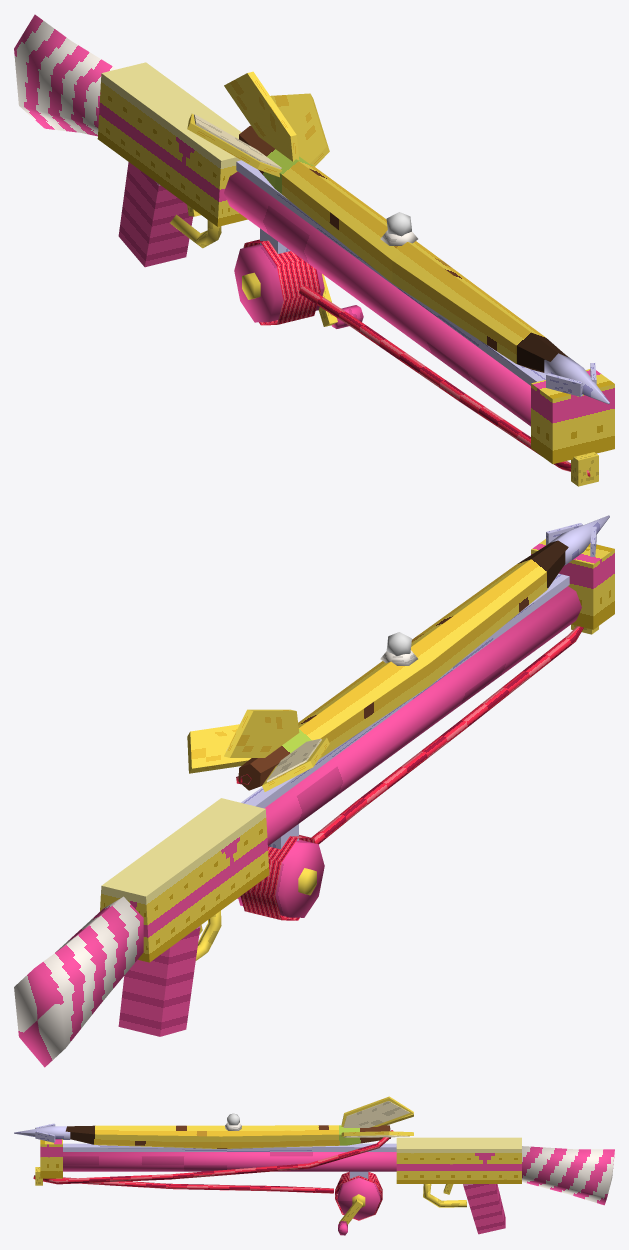
File: Banana Split Harpoon.fbx
3 renders of one model, top to bottom at view 1: azimuth 30°, elevation 25°; view 2: azimuth 150°, elevation 25°; view 3: azimuth 270°, elevation 25°, orthographic. The views are drawn at different scales.
Visible parts, largest first — view 1: Banana Split Harpoon banana, Banana Split Harpoon receiver, Banana Split Harpoon barrel, Banana Split Harpoon stock, Banana Split Harpoon muzzle head, Banana Split Harpoon grip, Banana Split Harpoon licorice line, Banana Split Harpoon peel 1.001, Banana Split Harpoon spool, Banana Split Harpoon spool line, Banana Split Harpoon shaft rail, Banana Split Harpoon peel 2.001 (+5 smaller); view 2: Banana Split Harpoon receiver, Banana Split Harpoon banana, Banana Split Harpoon barrel, Banana Split Harpoon stock, Banana Split Harpoon grip, Banana Split Harpoon licorice line, Banana Split Harpoon muzzle head, Banana Split Harpoon peel 1.001, Banana Split Harpoon shaft rail, Banana Split Harpoon spool, Banana Split Harpoon peel 2.001, Banana Split Harpoon spool line (+3 smaller); view 3: Banana Split Harpoon banana, Banana Split Harpoon barrel, Banana Split Harpoon receiver, Banana Split Harpoon stock, Banana Split Harpoon licorice line, Banana Split Harpoon shaft rail, Banana Split Harpoon grip, Banana Split Harpoon spool, Banana Split Harpoon peel 1 inner, Banana Split Harpoon muzzle head, Banana Split Harpoon spool line, Banana Split Harpoon peel 1.001 (+4 smaller).
Part boxes in pixels (x1,y1,x2,y2): Banana Split Harpoon banana: [239, 125, 567, 372]; Banana Split Harpoon receiver: [97, 62, 247, 226]; Banana Split Harpoon barrel: [224, 171, 530, 426]; Banana Split Harpoon stock: [14, 14, 117, 136]; Banana Split Harpoon muzzle head: [531, 369, 614, 463]; Banana Split Harpoon grip: [118, 162, 192, 267]; Banana Split Harpoon licorice line: [299, 286, 590, 476]; Banana Split Harpoon peel 1.001: [224, 71, 299, 161]; Banana Split Harpoon spool: [234, 244, 324, 322]; Banana Split Harpoon spool line: [243, 239, 320, 325]; Banana Split Harpoon shaft rail: [236, 160, 545, 385]; Banana Split Harpoon peel 2.001: [270, 93, 329, 166]; Banana Split Harpoon receiver: [100, 798, 269, 962]; Banana Split Harpoon banana: [238, 540, 568, 790]; Banana Split Harpoon barrel: [264, 586, 581, 845]; Banana Split Harpoon stock: [14, 896, 143, 1067]; Banana Split Harpoon grip: [118, 925, 200, 1036]; Banana Split Harpoon licorice line: [236, 626, 583, 844]; Banana Split Harpoon muzzle head: [531, 539, 614, 629]; Banana Split Harpoon peel 1.001: [224, 709, 299, 757]; Banana Split Harpoon shaft rail: [241, 573, 569, 808]; Banana Split Harpoon spool: [238, 839, 324, 917]; Banana Split Harpoon peel 2.001: [187, 724, 251, 773]; Banana Split Harpoon spool line: [240, 835, 315, 920]; Banana Split Harpoon banana: [65, 1125, 390, 1148]; Banana Split Harpoon barrel: [63, 1152, 396, 1171]; Banana Split Harpoon receiver: [396, 1137, 521, 1183]; Banana Split Harpoon stock: [522, 1146, 614, 1205]; Banana Split Harpoon licorice line: [33, 1130, 393, 1193]; Banana Split Harpoon shaft rail: [63, 1143, 396, 1151]; Banana Split Harpoon grip: [463, 1184, 505, 1234]; Banana Split Harpoon spool: [337, 1178, 380, 1219]; Banana Split Harpoon peel 1 inner: [343, 1101, 409, 1127]; Banana Split Harpoon muzzle head: [40, 1139, 62, 1178]; Banana Split Harpoon spool line: [335, 1171, 382, 1220]; Banana Split Harpoon peel 1.001: [341, 1096, 413, 1126].
Size of the model in its own units: 0.1227 by 0.2321 by 0.9582.
12 materials, 11 textured.
